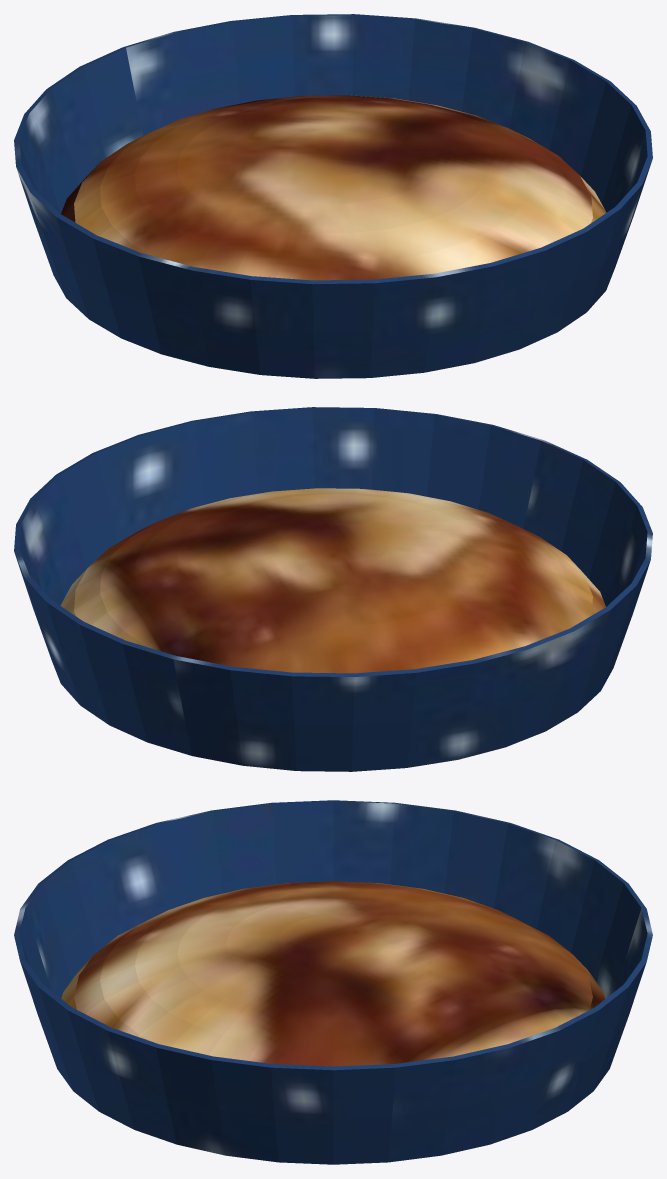
File: poutine.dae
3 renders of one model, top to bottom at view 1: azimuth 30°, elevation 25°; view 2: azimuth 150°, elevation 25°; view 3: azimuth 270°, elevation 25°, orthographic.
Visible parts, largest first — view 1: Sphere_001; view 2: Sphere_001; view 3: Sphere_001.
Part boxes in pixels (x1=…): Sphere_001: x1=14, y1=14, x2=652, y2=378; Sphere_001: x1=14, y1=407, x2=652, y2=771; Sphere_001: x1=14, y1=800, x2=652, y2=1164.
Size of the model in its own units: 0.2018 by 0.2018 by 0.039.
Materials: 1 (1 with a texture image).
